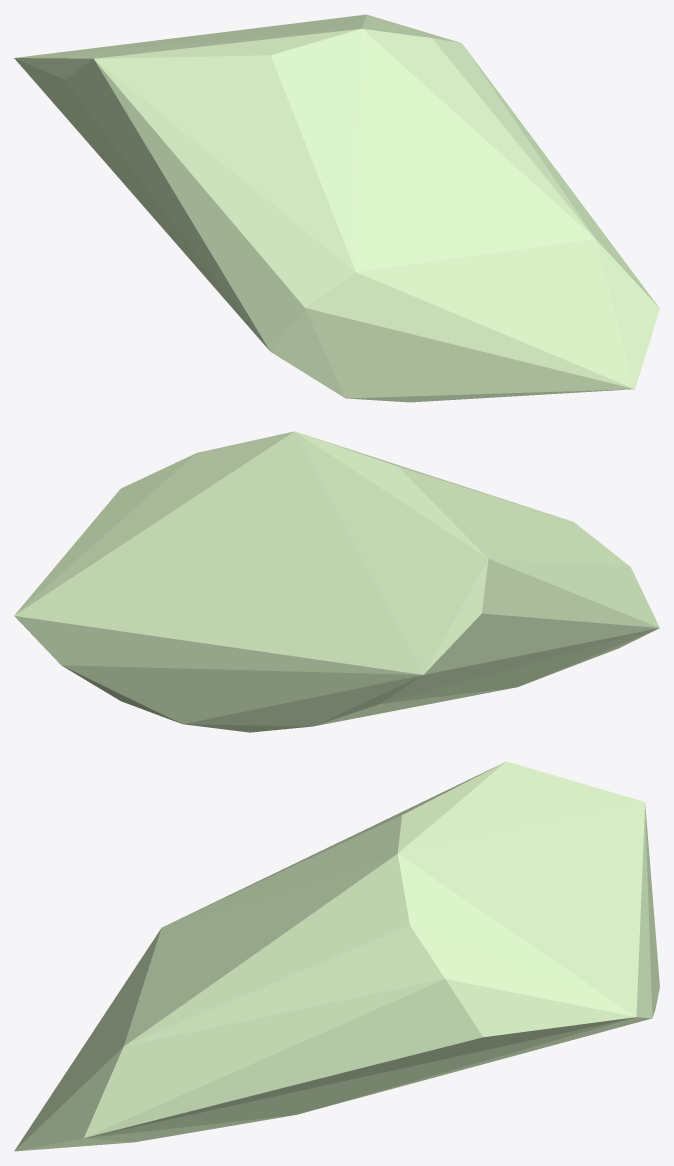
The model's file is kuka_URDF_link6_resp_coll_3.dae.
3 views of the same model, one above another, from view 1: azimuth 30°, elevation 25°; view 2: azimuth 150°, elevation 25°; view 3: azimuth 270°, elevation 25° (orthographic). The views are drawn at different scales.
Parts seen in each view (by area): view 1: Node_0000020FCC58E1D0; view 2: Node_0000020FCC58E1D0; view 3: Node_0000020FCC58E1D0.
Boxes of the visible parts, x1,y1,x2,y2 form: Node_0000020FCC58E1D0: [14, 14, 659, 402]; Node_0000020FCC58E1D0: [14, 431, 659, 732]; Node_0000020FCC58E1D0: [14, 761, 659, 1151].
Size of the model in its own units: 0.0911 by 0.0613 by 0.1314.
